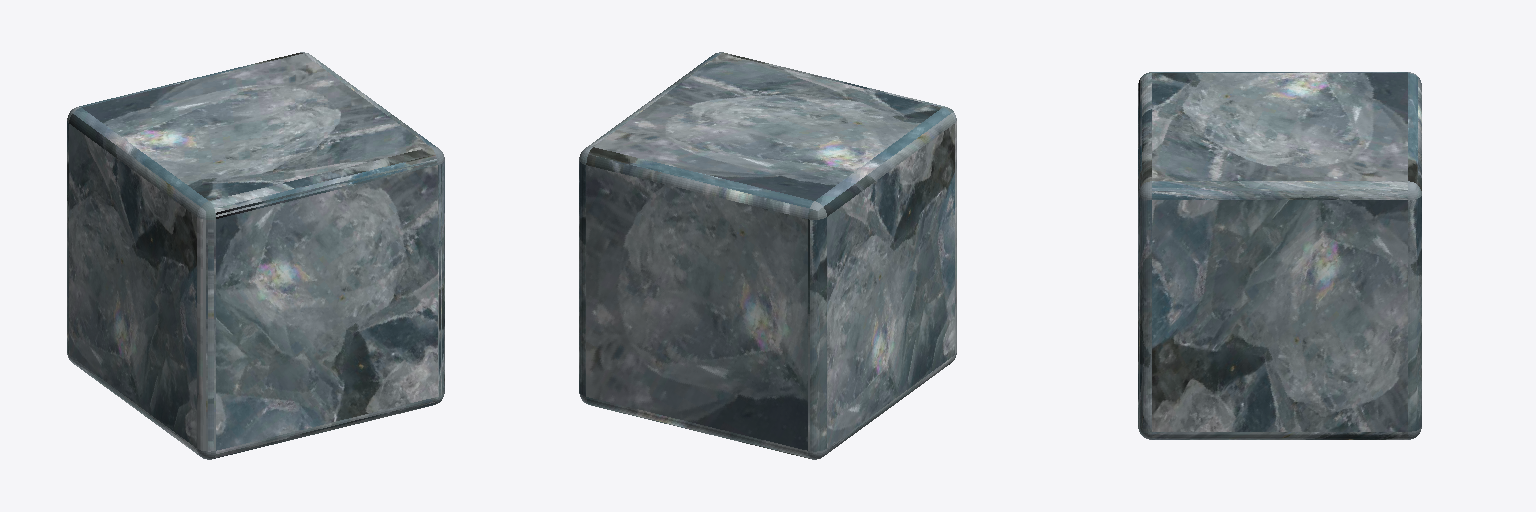
3 views of the same model, side by side, from view 1: azimuth 30°, elevation 25°; view 2: azimuth 150°, elevation 25°; view 3: azimuth 270°, elevation 25° (orthographic).
Parts seen in each view (by area): view 1: Cube; view 2: Cube; view 3: Cube.
Part boxes in pixels (left/top/right/bottom): Cube: left=67, top=52, right=444, bottom=459; Cube: left=579, top=52, right=956, bottom=459; Cube: left=1138, top=72, right=1421, bottom=439.
Size of the model in its own units: 2 by 2 by 2.
Materials: 1 (1 with a texture image).